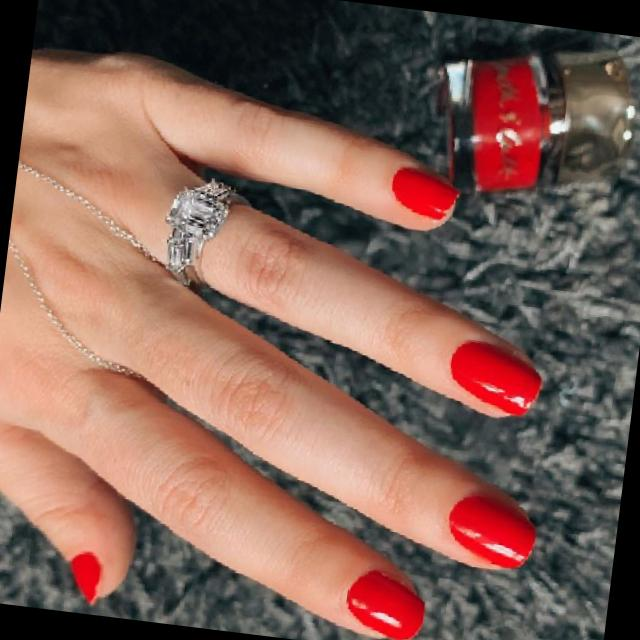Nail: (449, 342, 540, 415), (446, 492, 533, 568), (345, 568, 423, 640), (390, 168, 456, 219), (70, 552, 98, 600)
